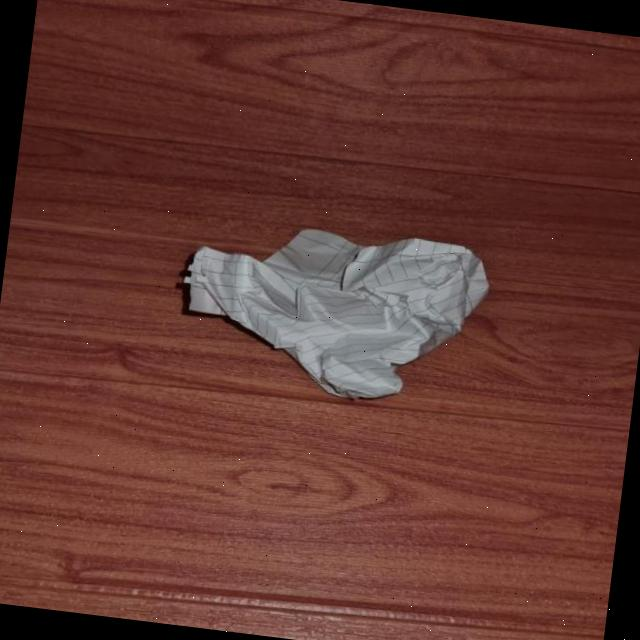trash: (170, 203, 491, 413)
